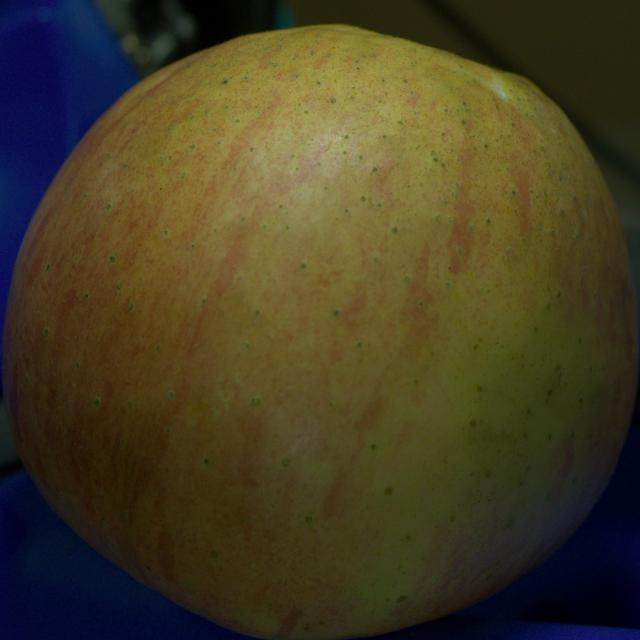apple: (2, 25, 638, 639)
